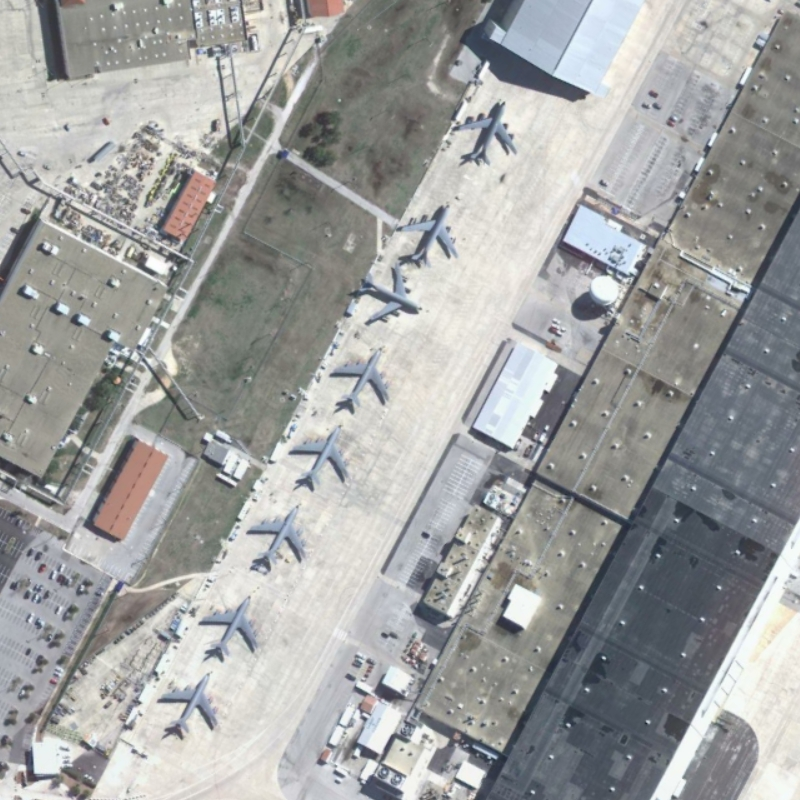A14: (388, 196, 467, 272), (153, 664, 225, 747), (445, 97, 523, 171), (282, 416, 354, 494), (192, 588, 264, 666), (323, 339, 394, 416), (241, 502, 314, 574), (355, 261, 424, 333)
